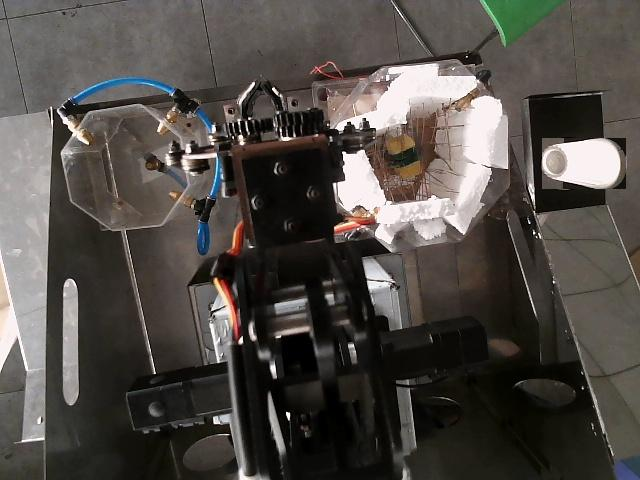cup: (542, 138, 626, 189)
